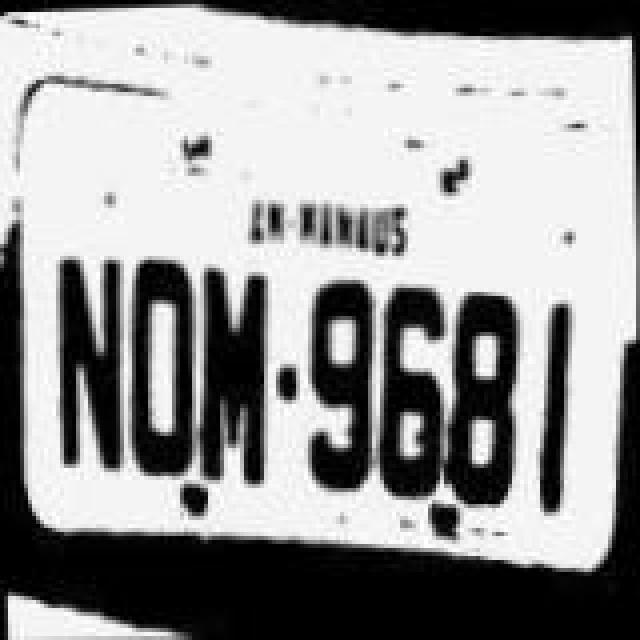1: (518, 242, 602, 534)
6: (372, 246, 460, 526)
8: (432, 240, 528, 536)
9: (292, 238, 380, 526)
M: (186, 244, 278, 544)
N: (44, 246, 132, 522)
O: (118, 234, 202, 514)
